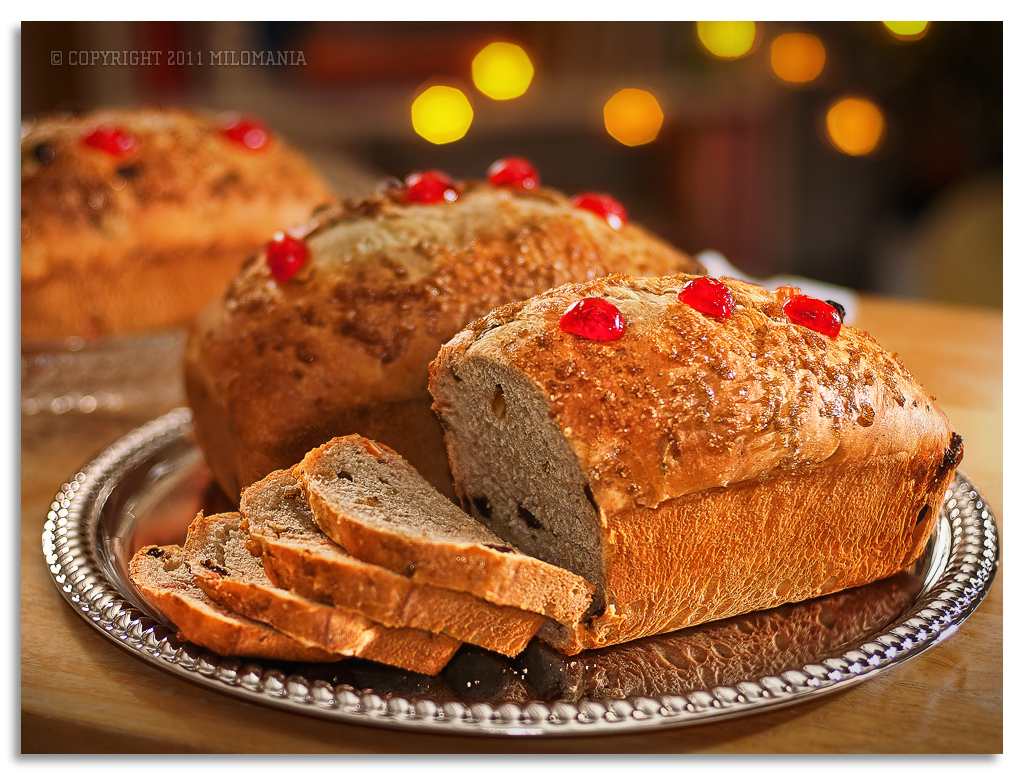slice of bread: (106, 429, 603, 710)
